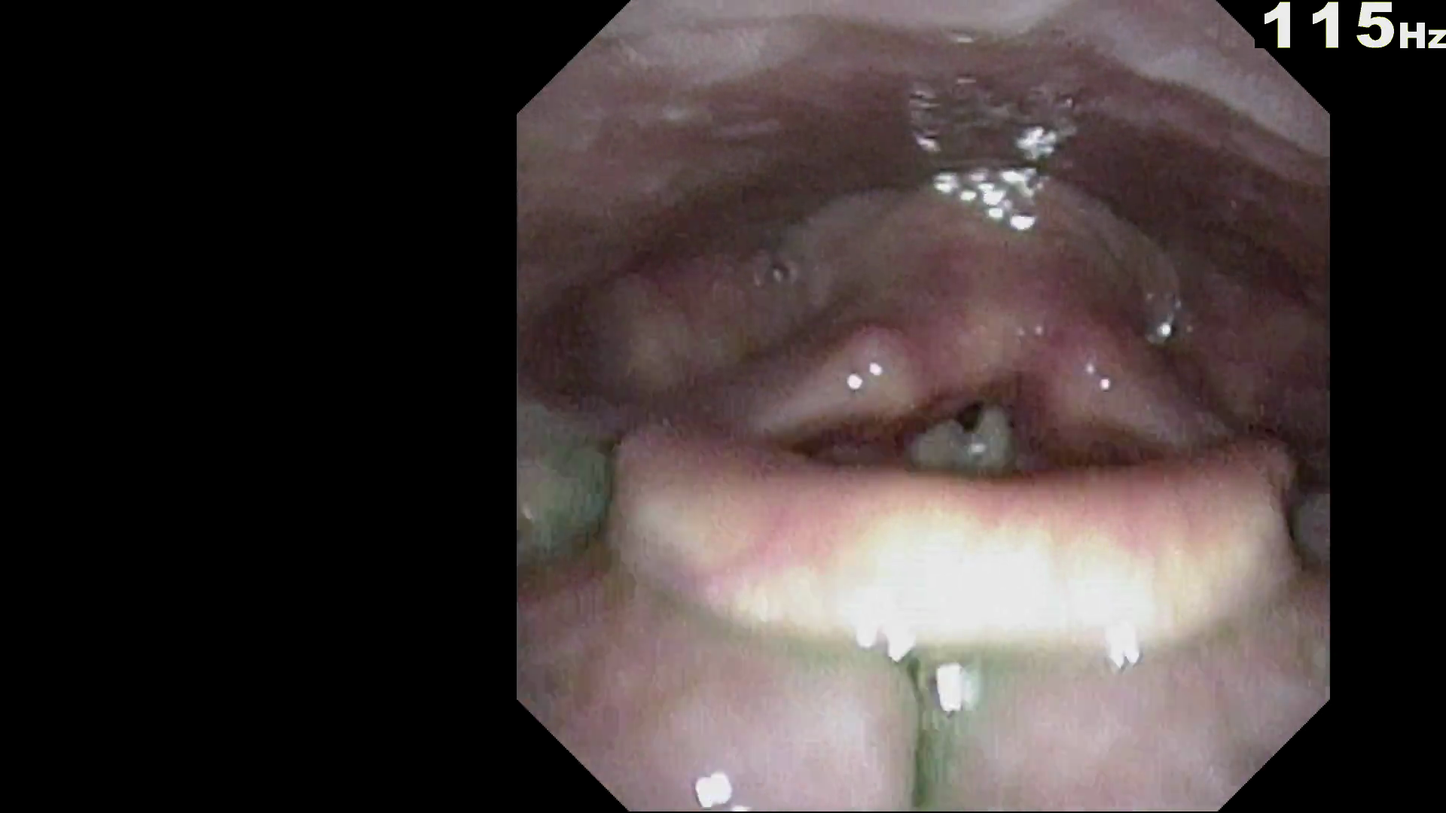epiglottis: (616, 351, 1305, 616)
trachea: (938, 345, 1051, 472)
